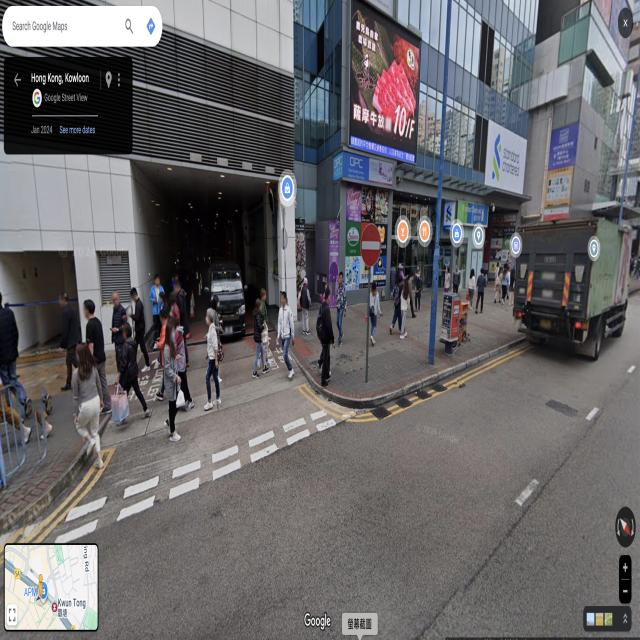Order-Sign: (362, 224, 381, 267)
